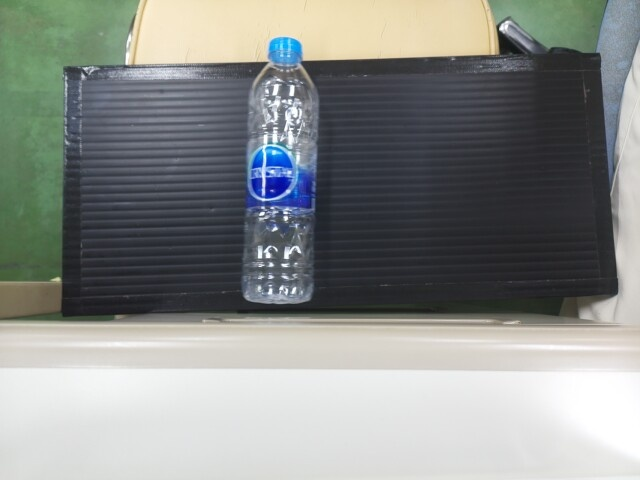plastic_bottle: (247, 36, 315, 301)
